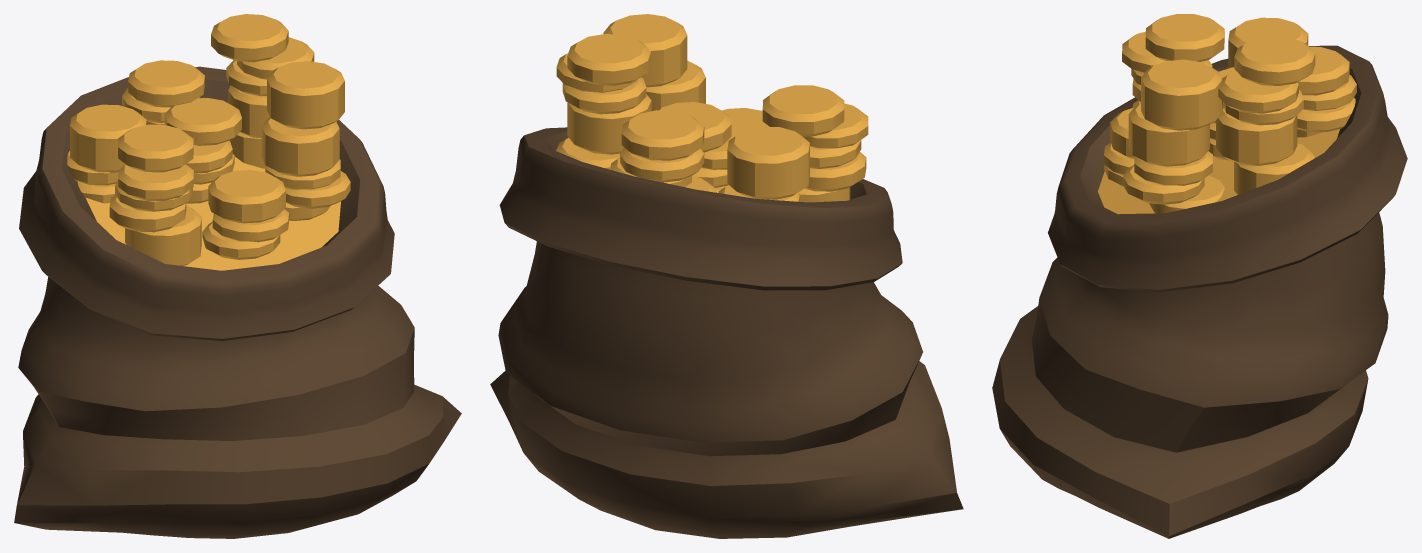
The model's file is Gold Bag.glb.
3 renders of one model, left to right at view 1: azimuth 30°, elevation 25°; view 2: azimuth 150°, elevation 25°; view 3: azimuth 270°, elevation 25°, orthographic. The views are drawn at different scales.
Parts seen in each view (by area): view 1: Prop_GoldBag; view 2: Prop_GoldBag; view 3: Prop_GoldBag.
Part boxes in pixels (x1,y1,x2,y2): Prop_GoldBag: (14, 14, 461, 538); Prop_GoldBag: (490, 14, 963, 538); Prop_GoldBag: (992, 14, 1407, 538).
Bounding box in the file's own units: 0.6661 × 0.6153 × 0.5187.
Materials: 1 (1 with a texture image).
